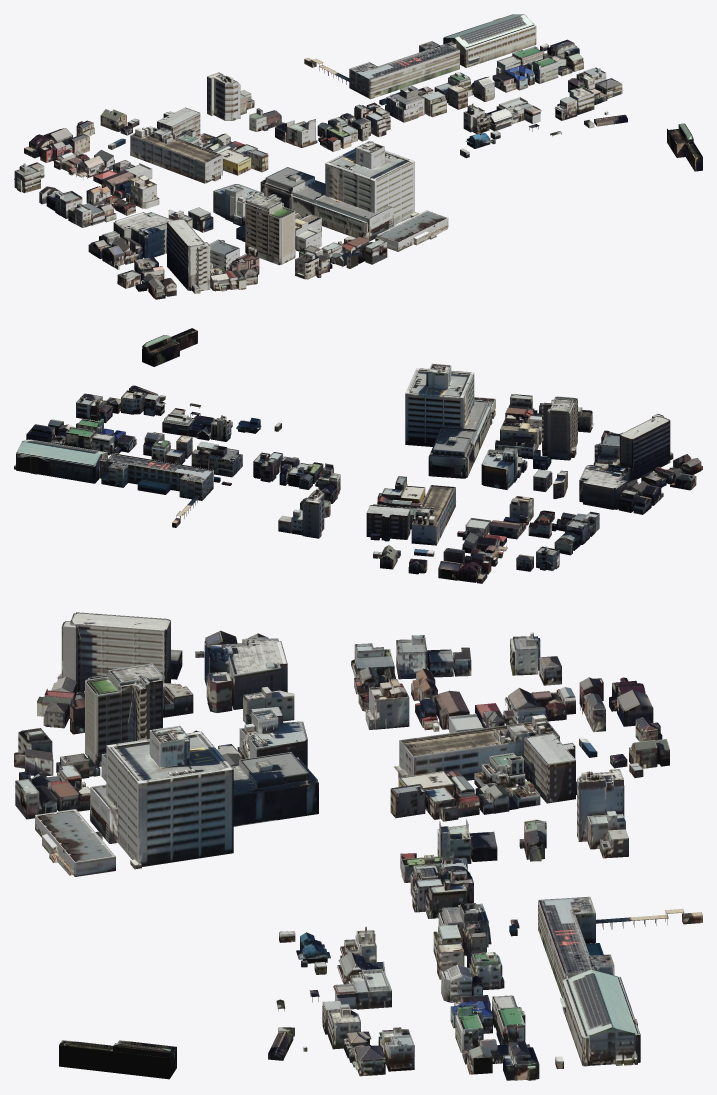
File: station-5-2-packed.glb
3 views of the same model, one above another, from view 1: azimuth 30°, elevation 25°; view 2: azimuth 150°, elevation 25°; view 3: azimuth 270°, elevation 25° (orthographic). The views are drawn at different scales.
Size of the model in its own units: 371 by 42.82 by 248.
12 materials, 11 textured.
